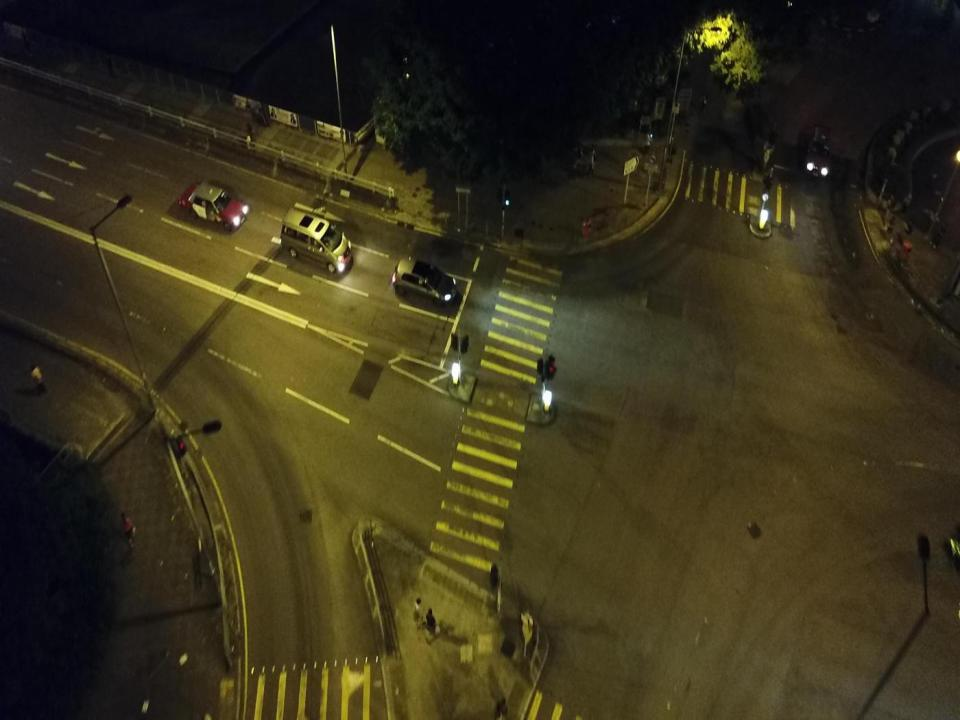car: (178, 182, 249, 231), (391, 258, 458, 308), (804, 124, 832, 179)
van: (279, 207, 353, 275)
